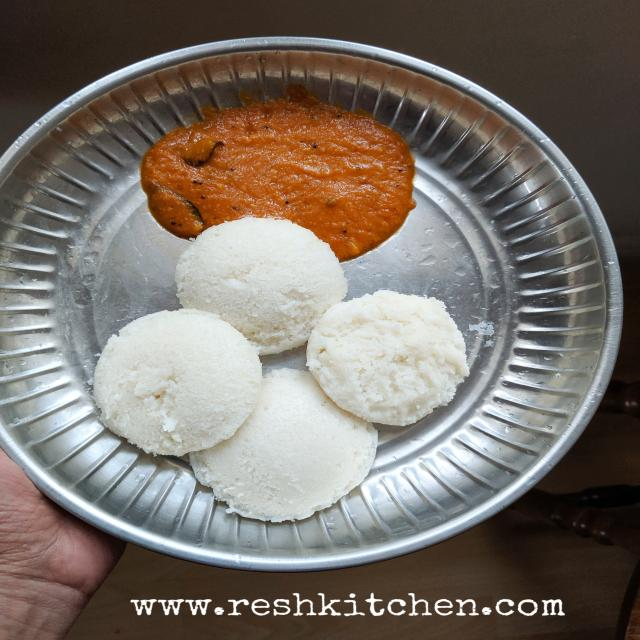idly: (191, 370, 375, 524), (91, 310, 263, 455), (176, 218, 347, 354), (305, 293, 463, 423)
kaara chutney: (123, 87, 419, 233)
